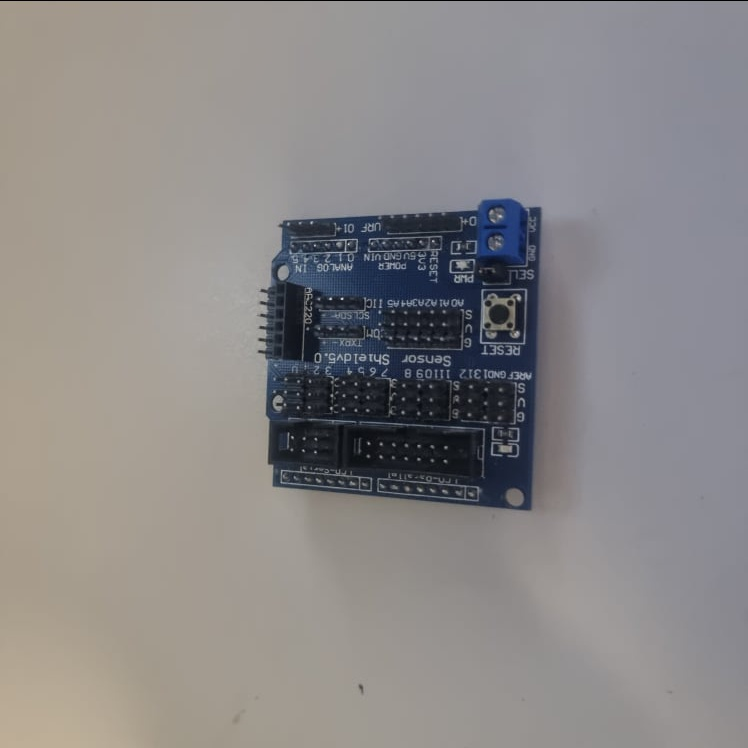5V EXPANSION: (260, 196, 545, 509)
